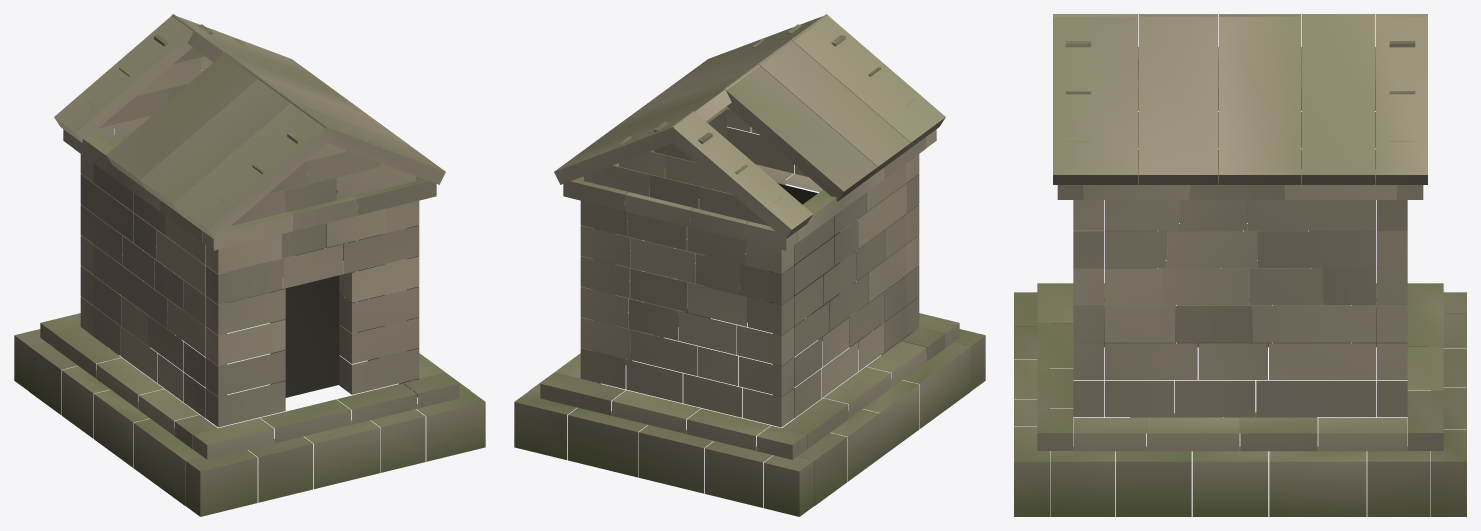
The model's file is tombs_house_mid.glb.
3 renders of one model, left to right at view 1: azimuth 30°, elevation 25°; view 2: azimuth 150°, elevation 25°; view 3: azimuth 270°, elevation 25°, orthographic. The views are drawn at different scales.
Parts seen in each view (by area): view 1: tombs_house_mid; view 2: tombs_house_mid; view 3: tombs_house_mid.
Part boxes in pixels (x1,y1,x2,y2): tombs_house_mid: [14, 14, 485, 516]; tombs_house_mid: [514, 14, 985, 516]; tombs_house_mid: [1014, 14, 1466, 516].
Bounding box in the file's own units: 15.6 × 17.91 × 17.6.
